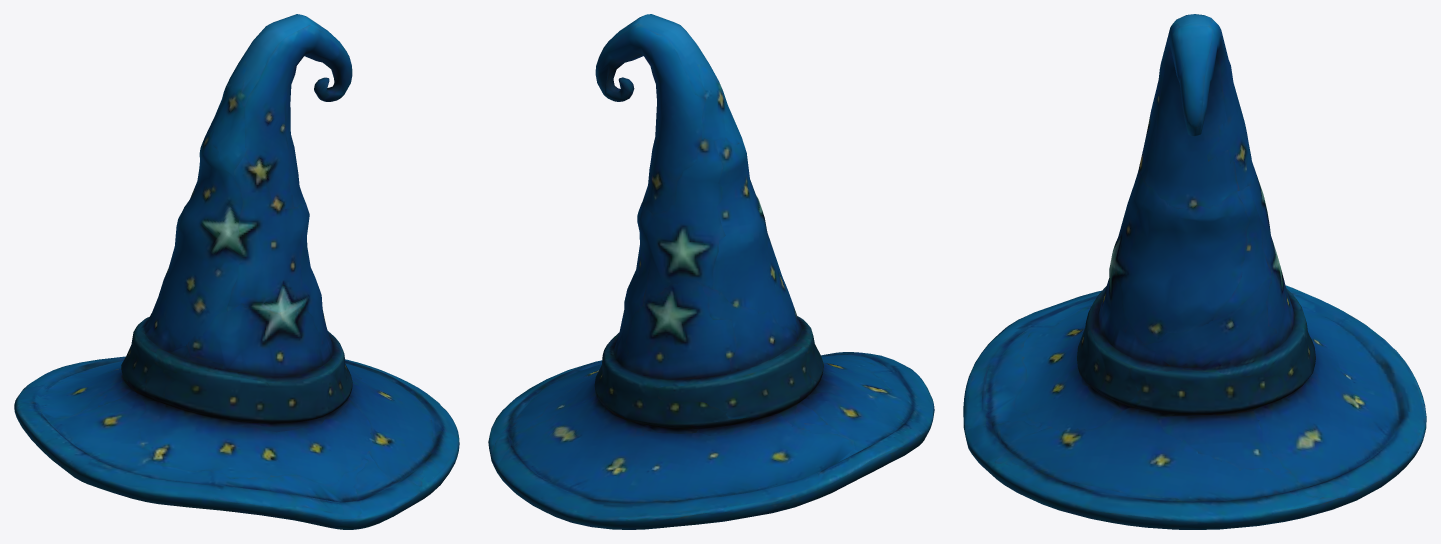
3 views of the same model, side by side, from view 1: azimuth 30°, elevation 25°; view 2: azimuth 150°, elevation 25°; view 3: azimuth 270°, elevation 25° (orthographic). The views are drawn at different scales.
Parts seen in each view (by area): view 1: material; view 2: material; view 3: material.
Boxes of the visible parts, x1,y1,x2,y2 form: material: (14, 14, 459, 529); material: (488, 14, 934, 529); material: (963, 14, 1426, 529).
Size of the model in its own units: 0.7366 by 0.7703 by 0.7262.
1 material, 1 textured.
